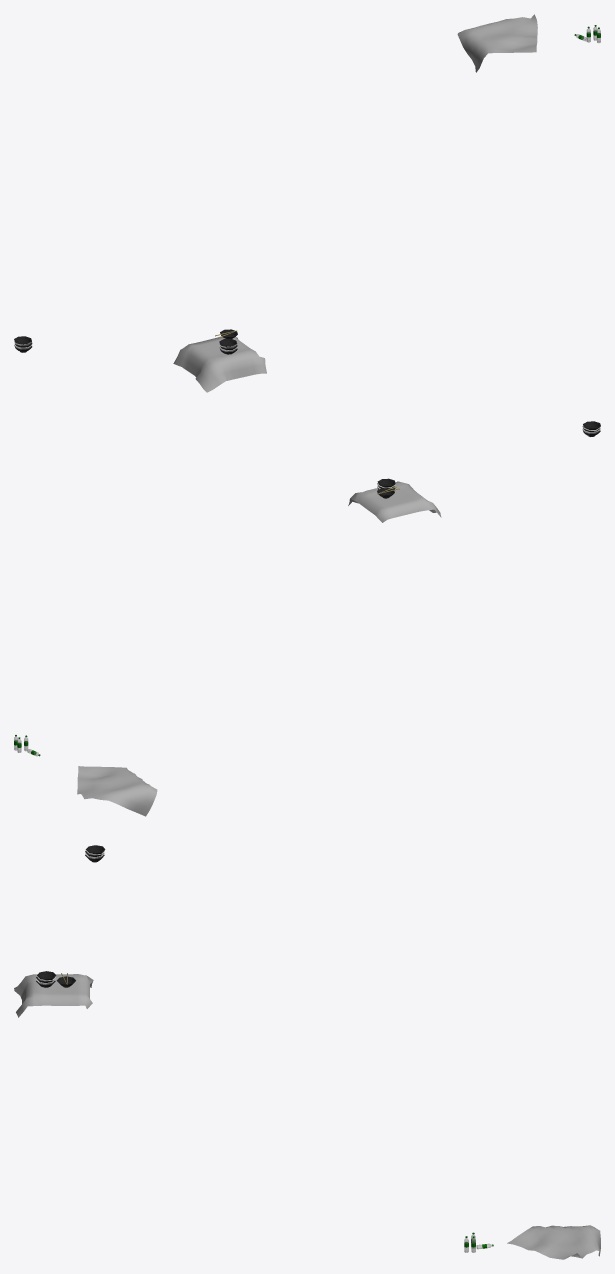
Rendered from bagunca_1.fbx.
3 renders of one model, top to bottom at view 1: azimuth 30°, elevation 25°; view 2: azimuth 210°, elevation 25°; view 3: azimuth 270°, elevation 25°, orthographic. The views are drawn at different scales.
Parts seen in each view (by area): view 1: pPlane3; view 2: pPlane3; view 3: pPlane3.
Boxes of the visible parts, left/top/right/bottom form: pPlane3: left=14, top=14, right=600, bottom=392; pPlane3: left=14, top=421, right=600, bottom=816; pPlane3: left=14, top=845, right=600, bottom=1259.
Bounding box in the file's own units: 10.84 × 0.8314 × 6.83.
